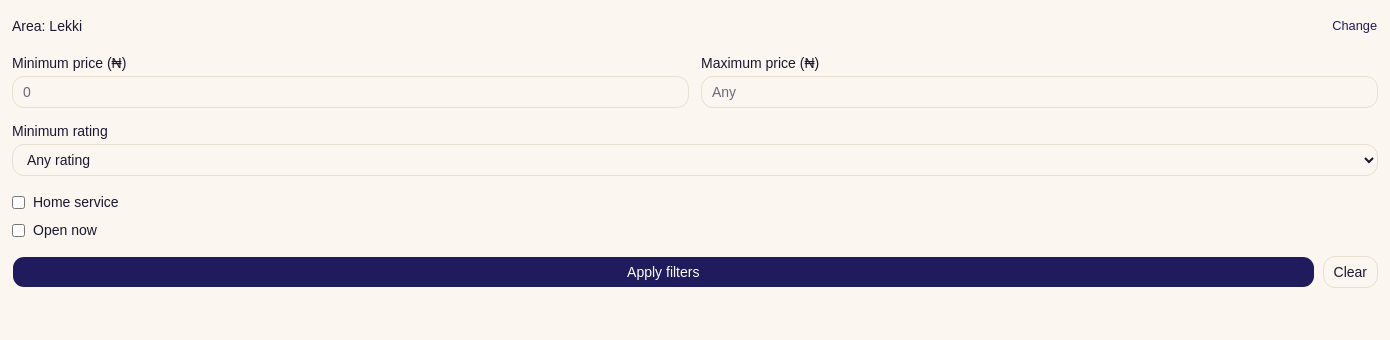
Test: FiltersForm › blocks a minimum price above the maximum
Type "900" into the field labelled "Minimum price (₦)". click: (350, 92)
box: [12,76,689,108]
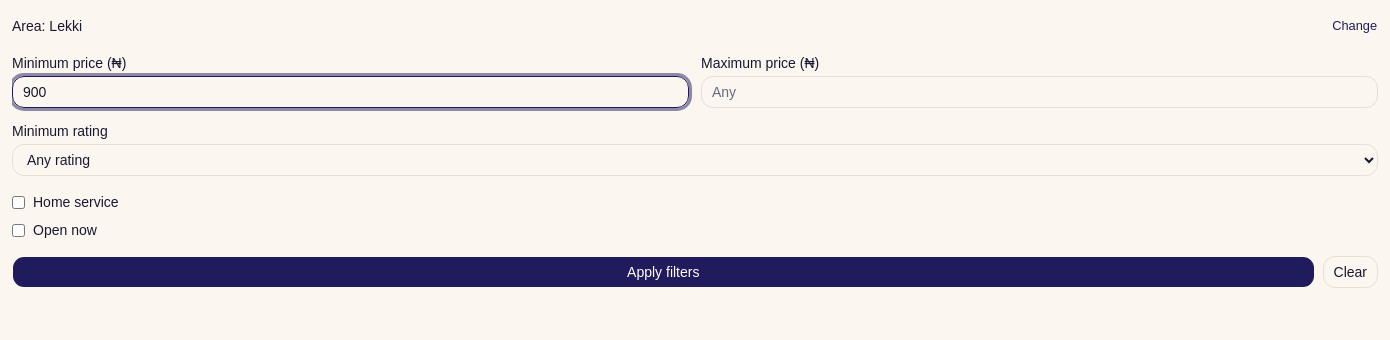
Type "100" into the field labelled "Maximum price (₦)". click: (1040, 92)
box: [701,76,1378,108]
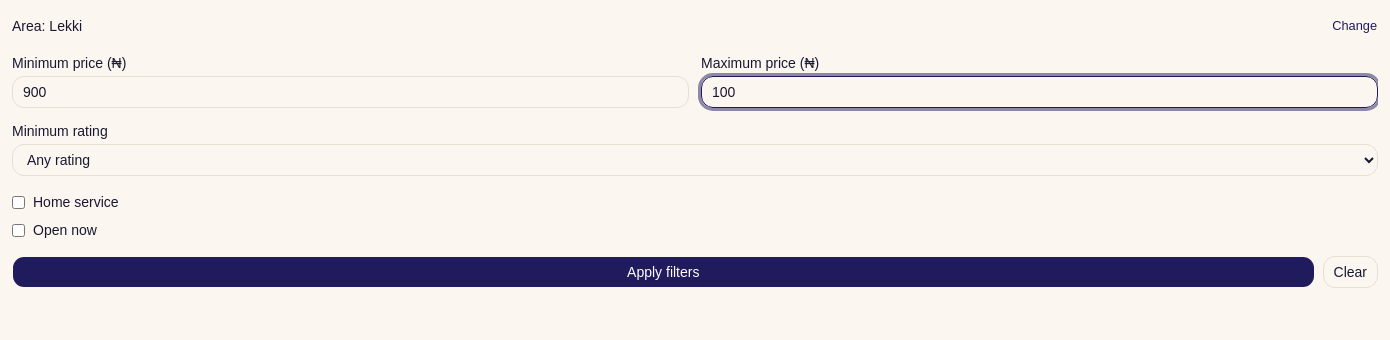
Click the button "Apply filters". click: (663, 272)
box: [12,256,1314,288]
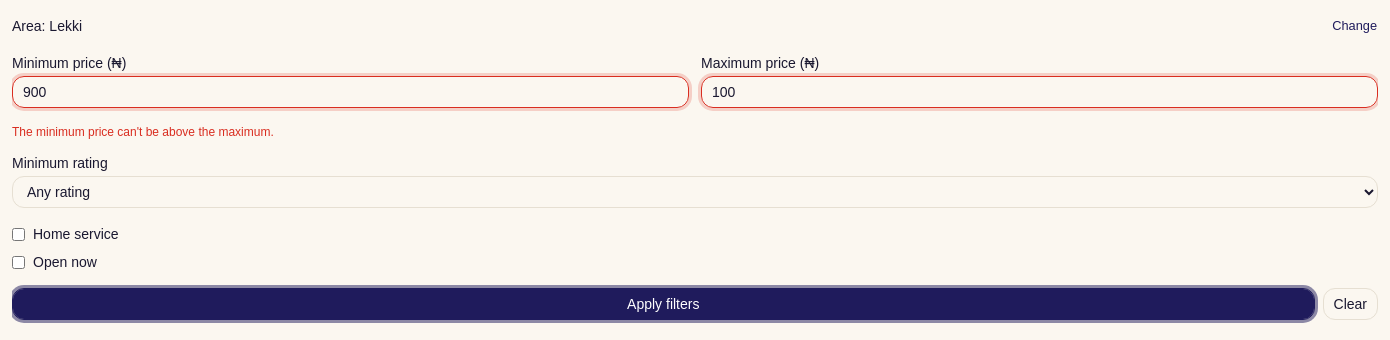
Now the message shows "can't be above", box [12,125,274,139]
